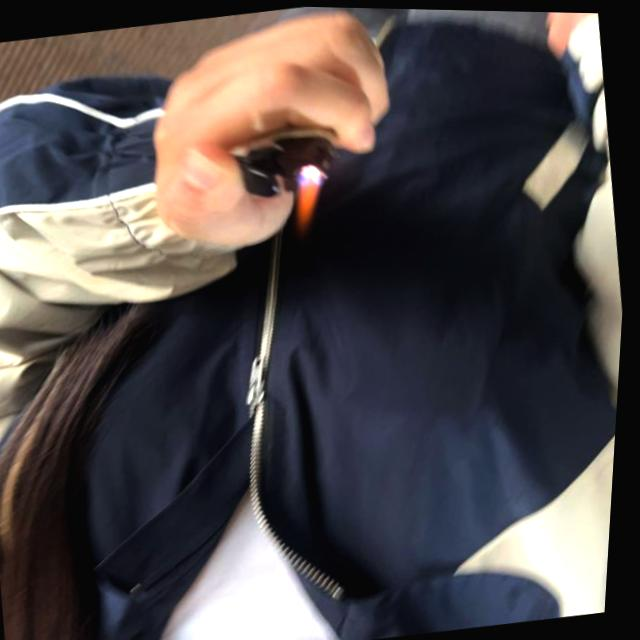helmet: (290, 158, 335, 237)
